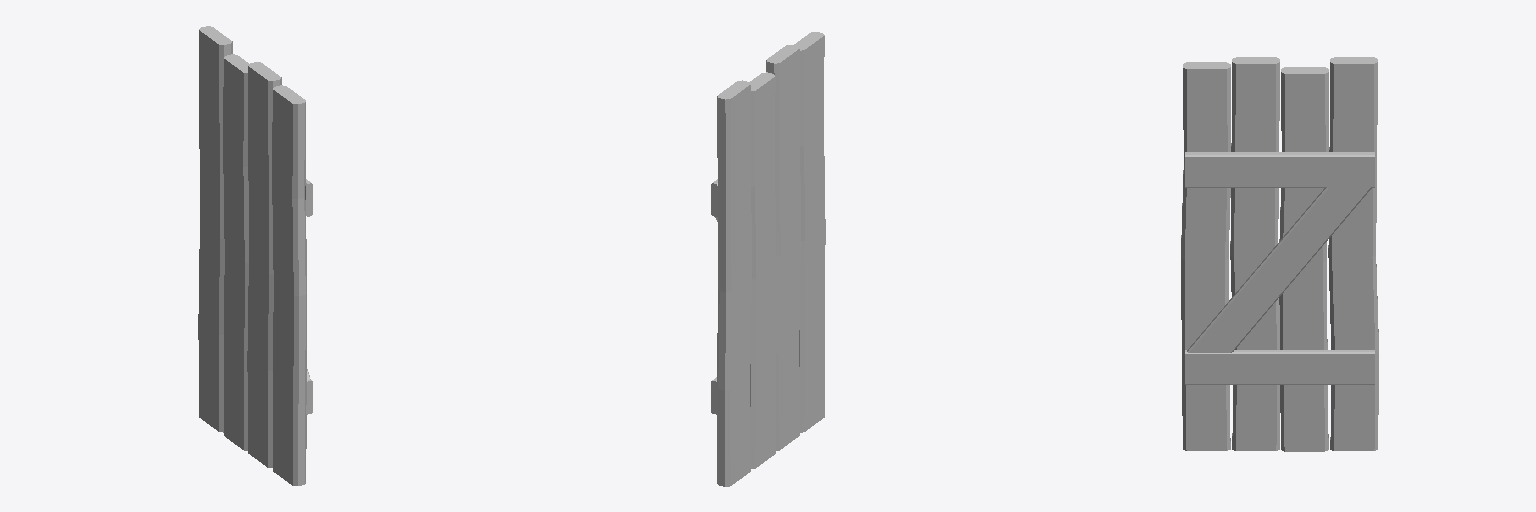
Rendered from GateDoorRight.obj.
3 renders of one model, left to right at view 1: azimuth 30°, elevation 25°; view 2: azimuth 150°, elevation 25°; view 3: azimuth 270°, elevation 25°, orthographic.
Visible parts, largest first — view 1: polySurface1914; view 2: polySurface1914; view 3: polySurface1914.
Boxes of the visible parts, x1,y1,x2,y2 form: polySurface1914: [198, 26, 312, 485]; polySurface1914: [711, 32, 825, 486]; polySurface1914: [1181, 57, 1378, 451].
Bounding box in the file's own units: 23.01 × 432 × 200.